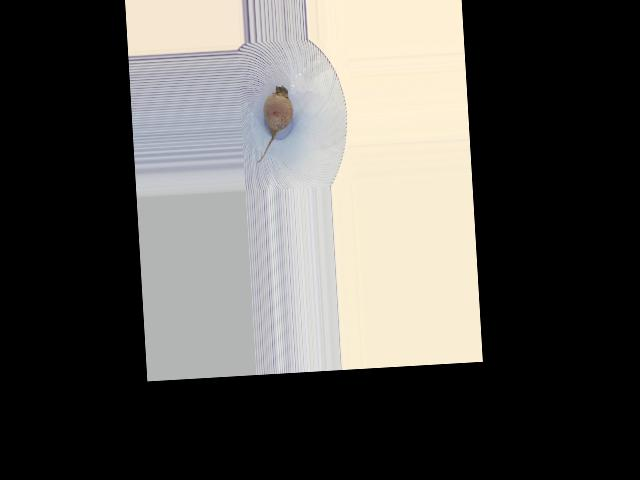beet: (252, 84, 295, 162)
